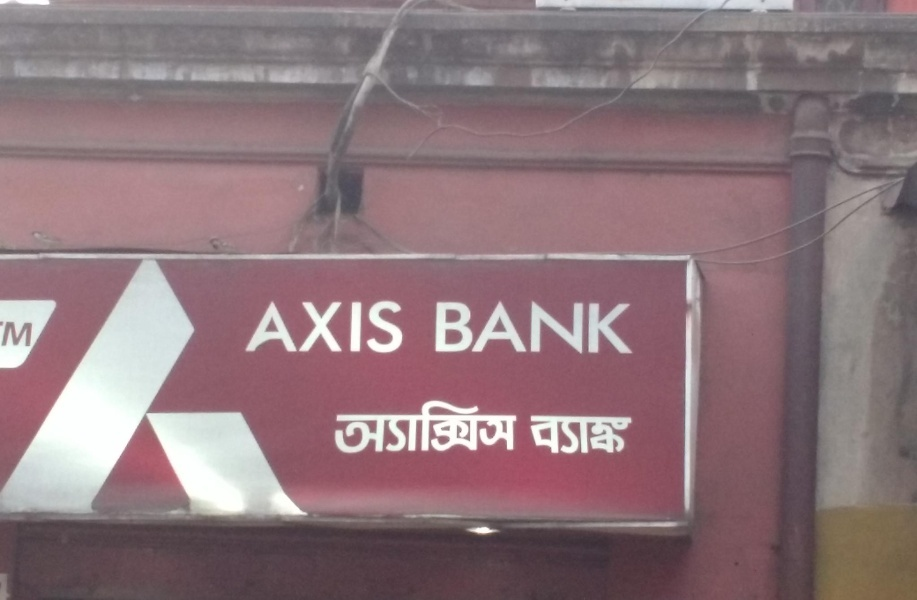text: (257, 299, 272, 355), (273, 299, 288, 355), (289, 299, 304, 355), (305, 299, 320, 355), (321, 299, 336, 355), (337, 299, 352, 355), (353, 299, 368, 355), (369, 299, 384, 355), (385, 299, 400, 355), (337, 399, 352, 455), (353, 399, 368, 455), (369, 399, 384, 455), (385, 399, 400, 455), (401, 399, 416, 455), (417, 399, 432, 455), (433, 399, 448, 455), (449, 399, 464, 455), (465, 399, 480, 455), (481, 399, 496, 455), (497, 399, 512, 455), (449, 301, 464, 356), (465, 301, 480, 356), (481, 301, 496, 356), (497, 301, 512, 356), (513, 301, 528, 356), (529, 301, 544, 356), (545, 301, 560, 356), (561, 301, 576, 356), (577, 301, 592, 356), (593, 301, 608, 356), (609, 301, 624, 356), (435, 301, 448, 356), (545, 414, 560, 461), (561, 414, 576, 461), (577, 414, 592, 461), (593, 414, 608, 461), (609, 414, 624, 461), (625, 414, 640, 461), (530, 414, 544, 461), (625, 301, 633, 356), (17, 320, 32, 349), (249, 299, 256, 355), (6, 320, 16, 349), (401, 299, 405, 355), (513, 399, 517, 455), (33, 320, 35, 349), (335, 399, 336, 455)
